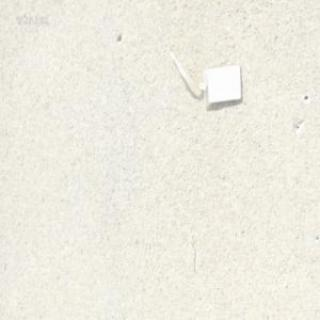LuggageTagtrack_idkeyframe: (165, 44, 243, 109)
